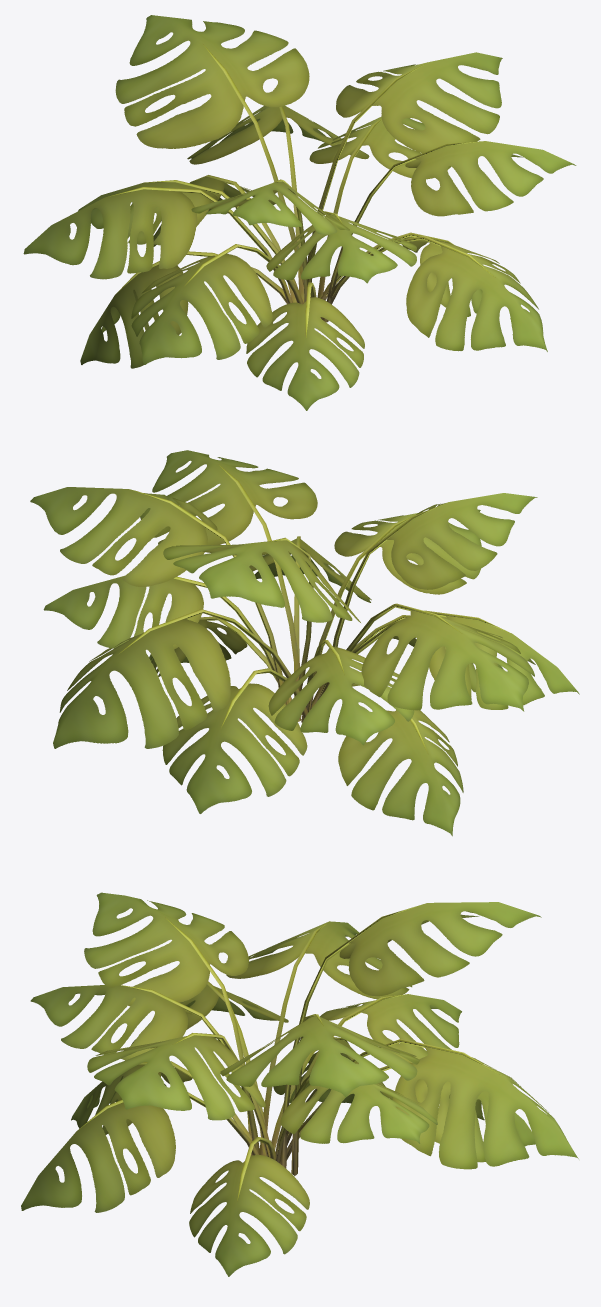
File: monstera 01_lod1.obj
3 views of the same model, one above another, from view 1: azimuth 30°, elevation 25°; view 2: azimuth 150°, elevation 25°; view 3: azimuth 270°, elevation 25° (orthographic). The views are drawn at different scales.
Parts seen in each view (by area): view 1: tree; view 2: tree; view 3: tree.
Boxes of the visible parts, x1,y1,x2,y2 form: tree: (23, 15, 576, 410); tree: (30, 450, 579, 836); tree: (21, 892, 578, 1276).
Size of the model in its own units: 190 by 107 by 179.
